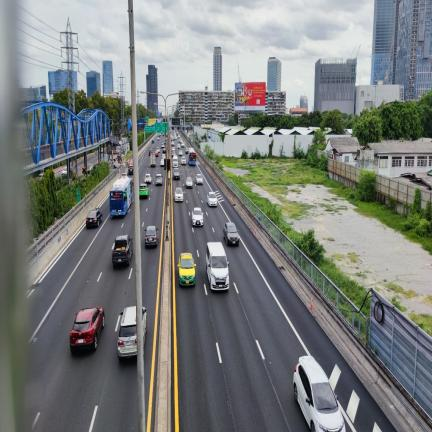bus: (110, 176, 133, 215), (189, 148, 195, 164)
car: (293, 356, 345, 431), (70, 307, 104, 352), (117, 306, 137, 360), (223, 222, 239, 245), (86, 209, 102, 227), (145, 226, 158, 247), (192, 208, 203, 226), (141, 307, 146, 344), (207, 192, 218, 205), (139, 183, 148, 198), (175, 187, 183, 202), (185, 176, 193, 188), (89, 163, 98, 173), (155, 173, 162, 185), (173, 168, 180, 179), (196, 173, 203, 184), (113, 160, 120, 169), (144, 173, 151, 182), (128, 163, 133, 174), (181, 157, 186, 164), (160, 158, 164, 166), (161, 141, 165, 148), (162, 146, 166, 153), (178, 150, 183, 155), (156, 147, 160, 152), (155, 150, 158, 156), (162, 154, 166, 158), (185, 149, 188, 154), (177, 143, 180, 148), (181, 143, 185, 146), (152, 139, 154, 143), (157, 137, 159, 140)
pickup: (112, 235, 133, 266)
taxi: (178, 253, 196, 284)
truck: (150, 152, 155, 166)
van: (206, 242, 228, 289), (172, 155, 178, 167), (172, 160, 178, 167)
